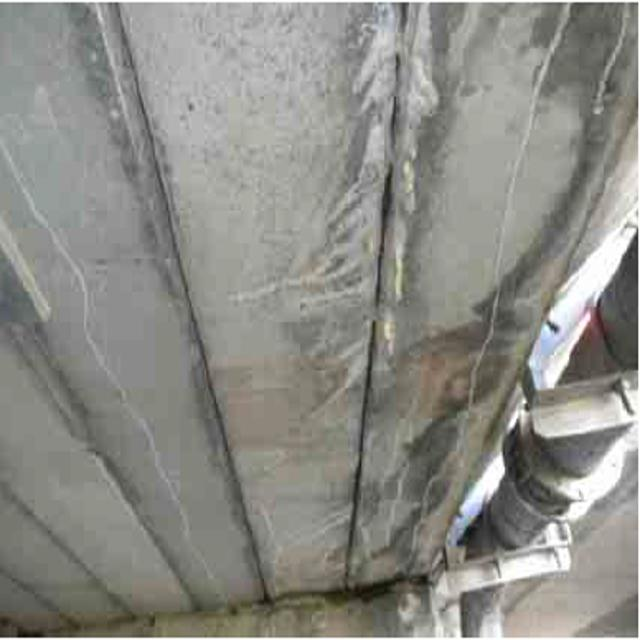freelime: (346, 17, 430, 347)
